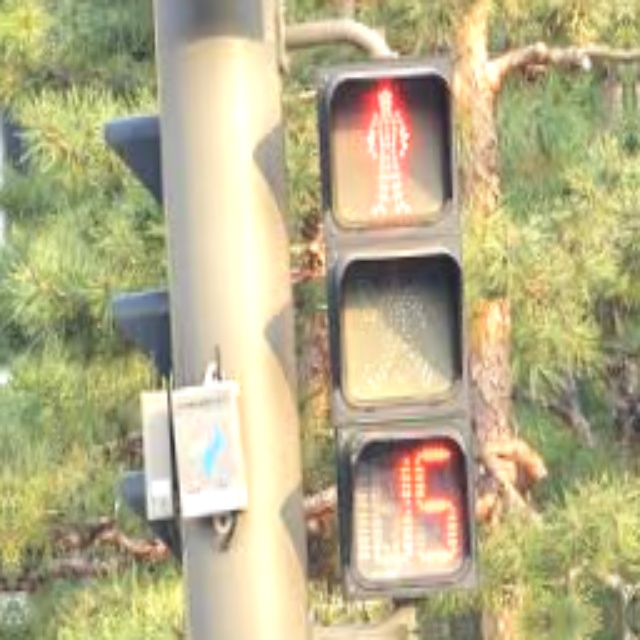red_light: (386, 443, 468, 579), (353, 80, 417, 219)
